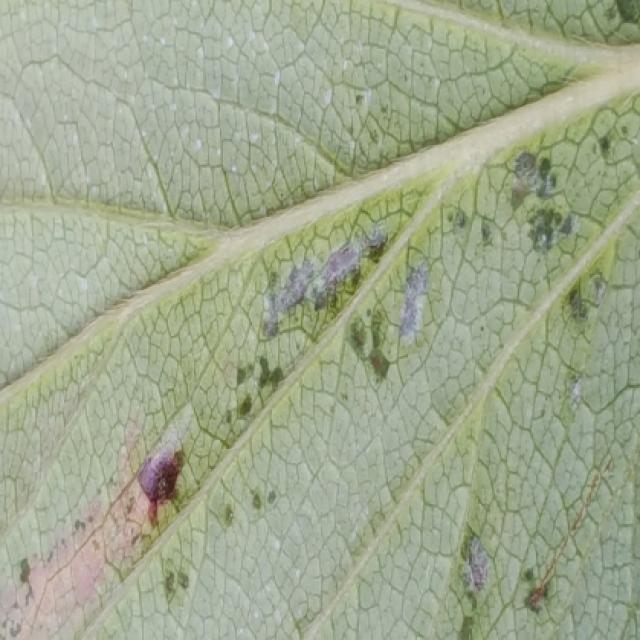Angular Leafspot: (0, 80, 638, 638)
